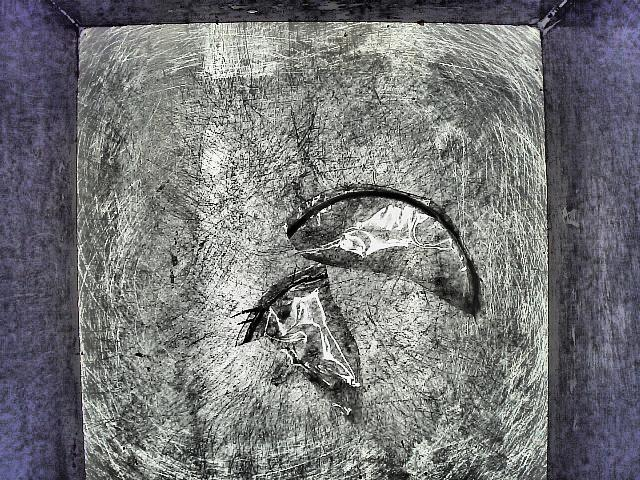Plastic: (247, 165, 502, 314), (259, 271, 367, 420)
